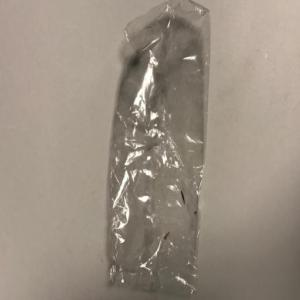Trash: (108, 2, 212, 300)
